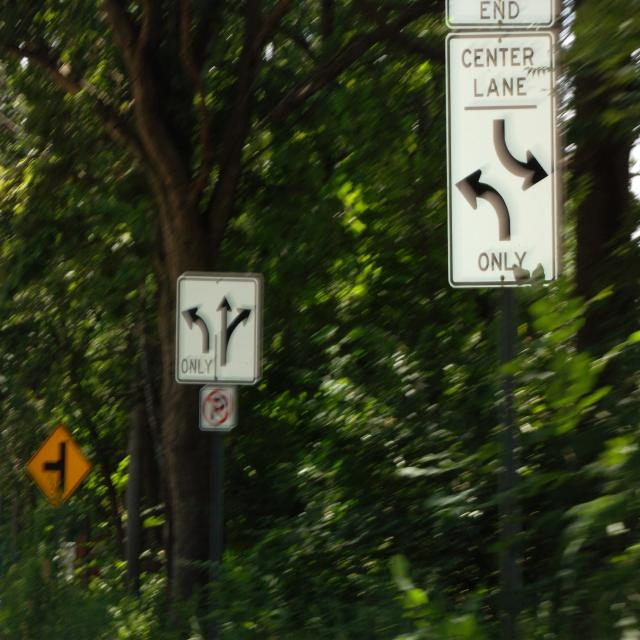regulatory: (445, 30, 561, 288), (176, 267, 257, 384), (439, 0, 574, 28), (197, 374, 240, 451)
warning: (26, 422, 88, 510)
